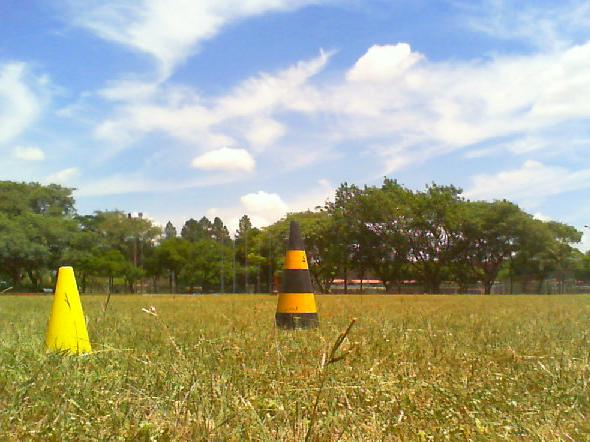0 cone: (269, 221, 322, 330), (40, 264, 93, 354)
